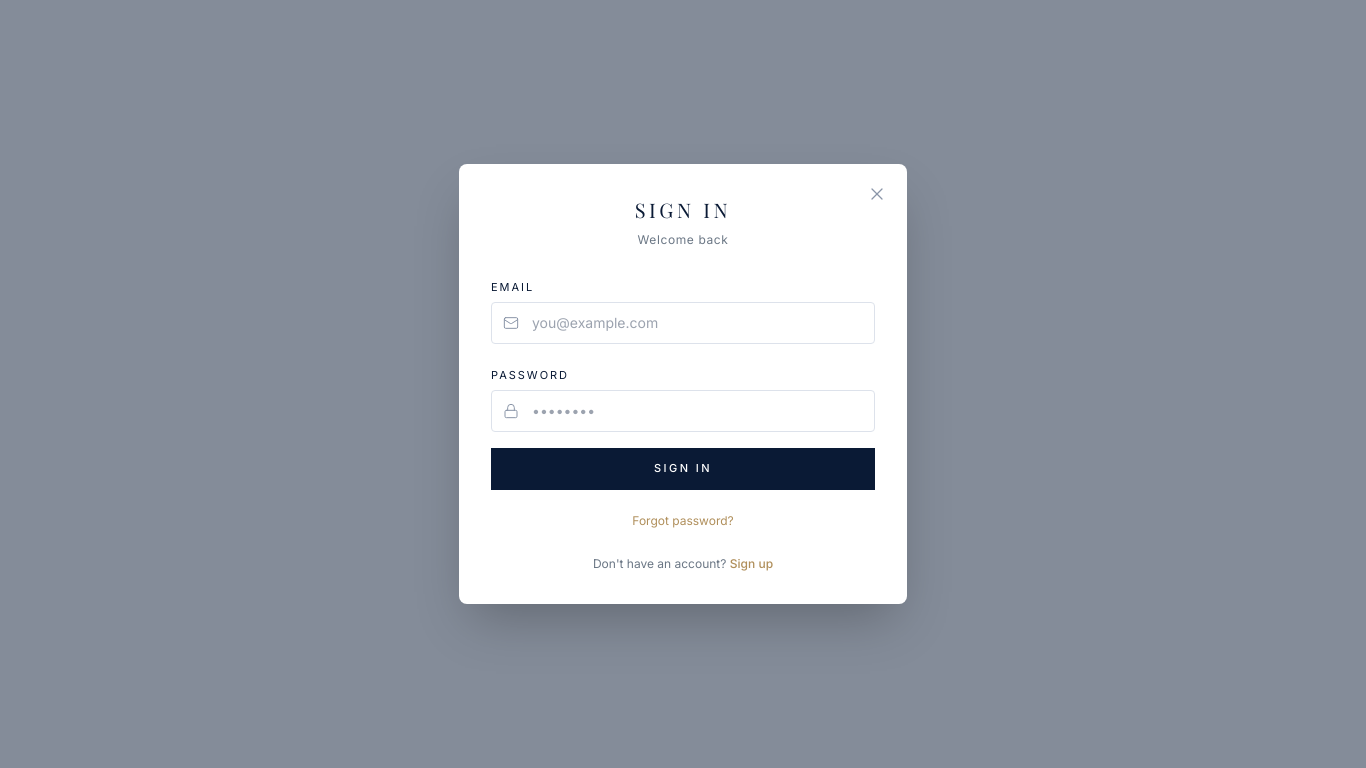
Test: AuthModal signup incentive copy › promotes the 100-point welcome bonus once the visitor switches to sign up
This screenshot has width=1366, height=768.
Click the button "Sign up" at [751, 564], box [730, 556, 773, 572]
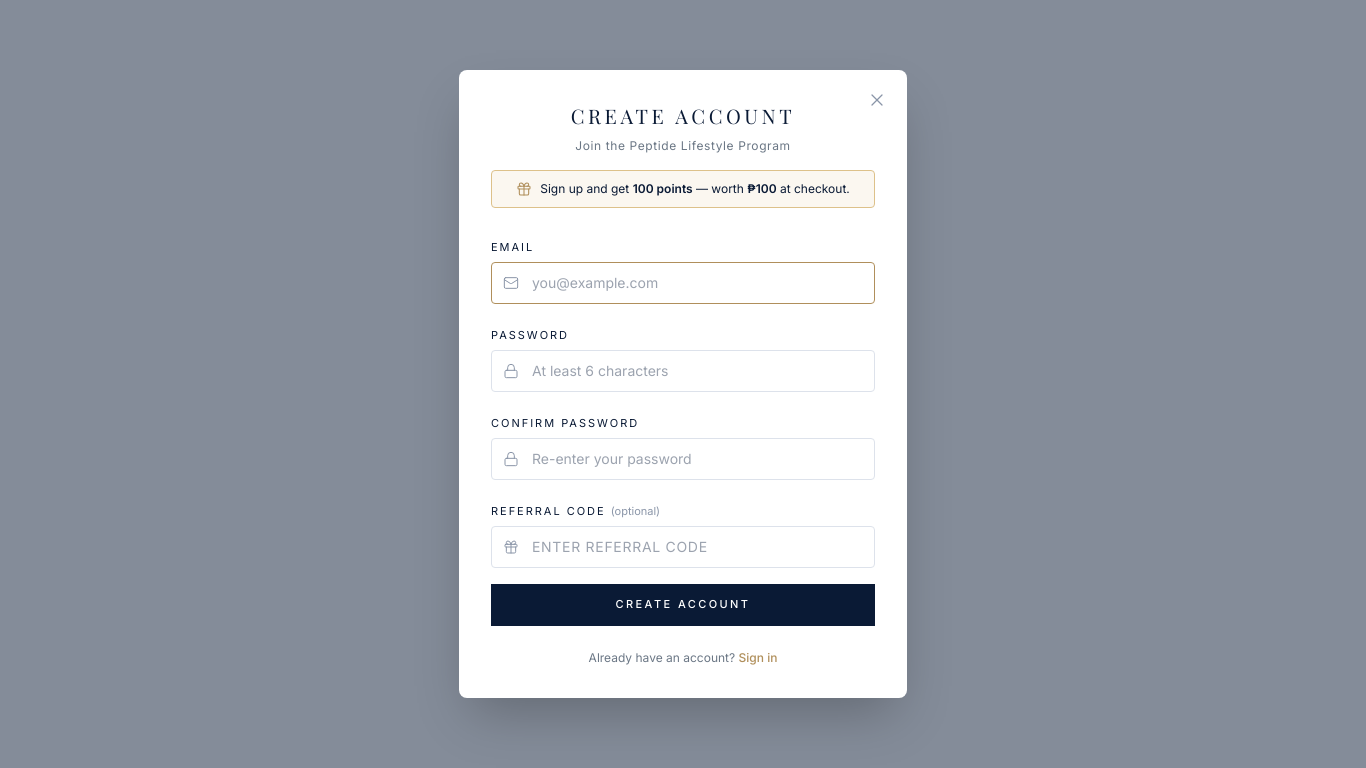
Now the text "100 points" is shown, box [633, 181, 693, 196]
Now the text "₱100" is shown, box [747, 181, 777, 196]
